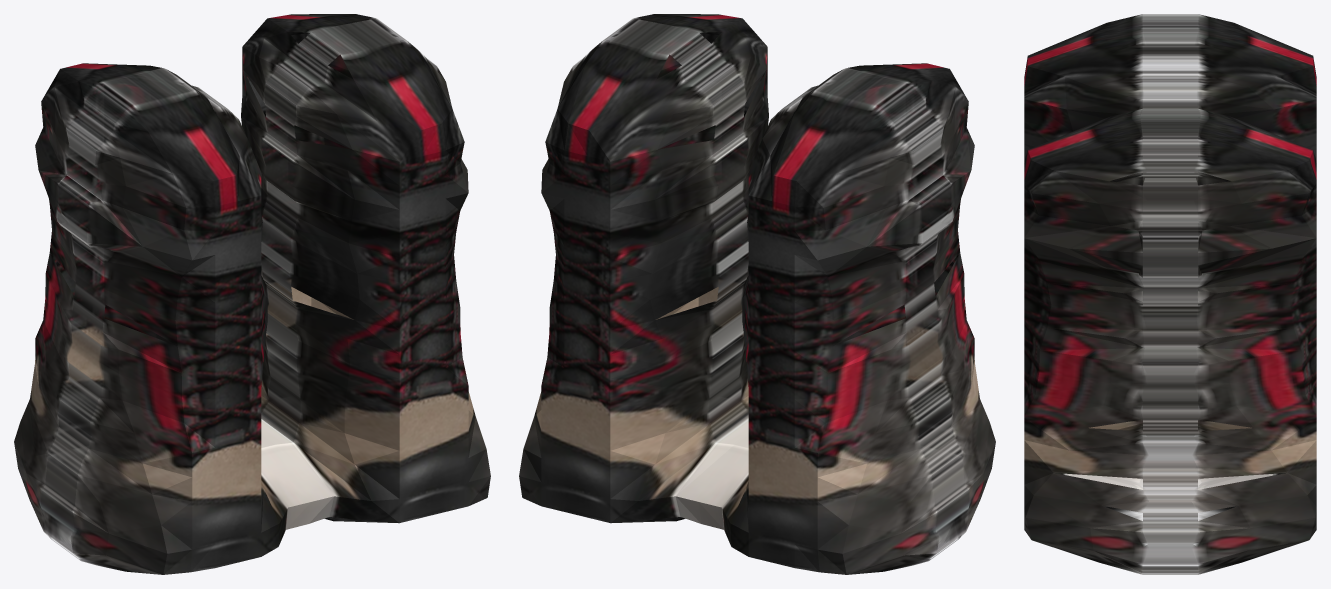
File: shoei-nomad-adventure-boot-129.glb
3 views of the same model, side by side, from view 1: azimuth 30°, elevation 25°; view 2: azimuth 150°, elevation 25°; view 3: azimuth 270°, elevation 25° (orthographic). The views are drawn at different scales.
Parts seen in each view (by area): view 1: world; view 2: world; view 3: world.
Part boxes in pixels (x1,y1,x2,y2): world: [14, 14, 490, 574]; world: [519, 14, 995, 574]; world: [1024, 14, 1316, 574].
Bounding box in the file's own units: 0.8916 × 1 × 0.62.
1 material, 1 textured.
